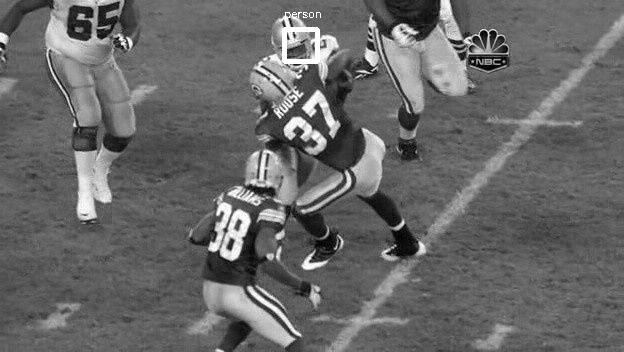person: (276, 23, 313, 70), (275, 23, 312, 70), (277, 23, 314, 70), (276, 22, 313, 69), (276, 24, 313, 71)
target_negative: (82, 191, 566, 329), (422, 156, 537, 345), (152, 253, 449, 293), (379, 295, 535, 342), (519, 304, 554, 338), (500, 134, 537, 139)
